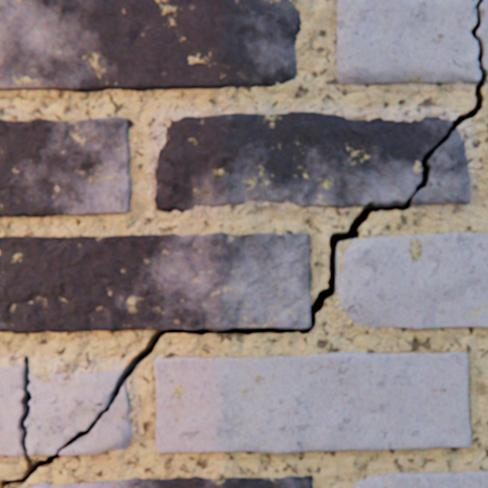brick: (155, 352, 469, 453), (0, 233, 311, 333), (0, 0, 301, 93), (337, 233, 487, 329), (0, 118, 132, 217), (29, 475, 312, 487), (354, 470, 487, 487)
broken_brick: (155, 113, 451, 212), (336, 0, 479, 85), (26, 369, 123, 454), (60, 382, 132, 454), (412, 129, 469, 206), (0, 365, 25, 455), (476, 0, 487, 72)
crack: (0, 0, 487, 487)
